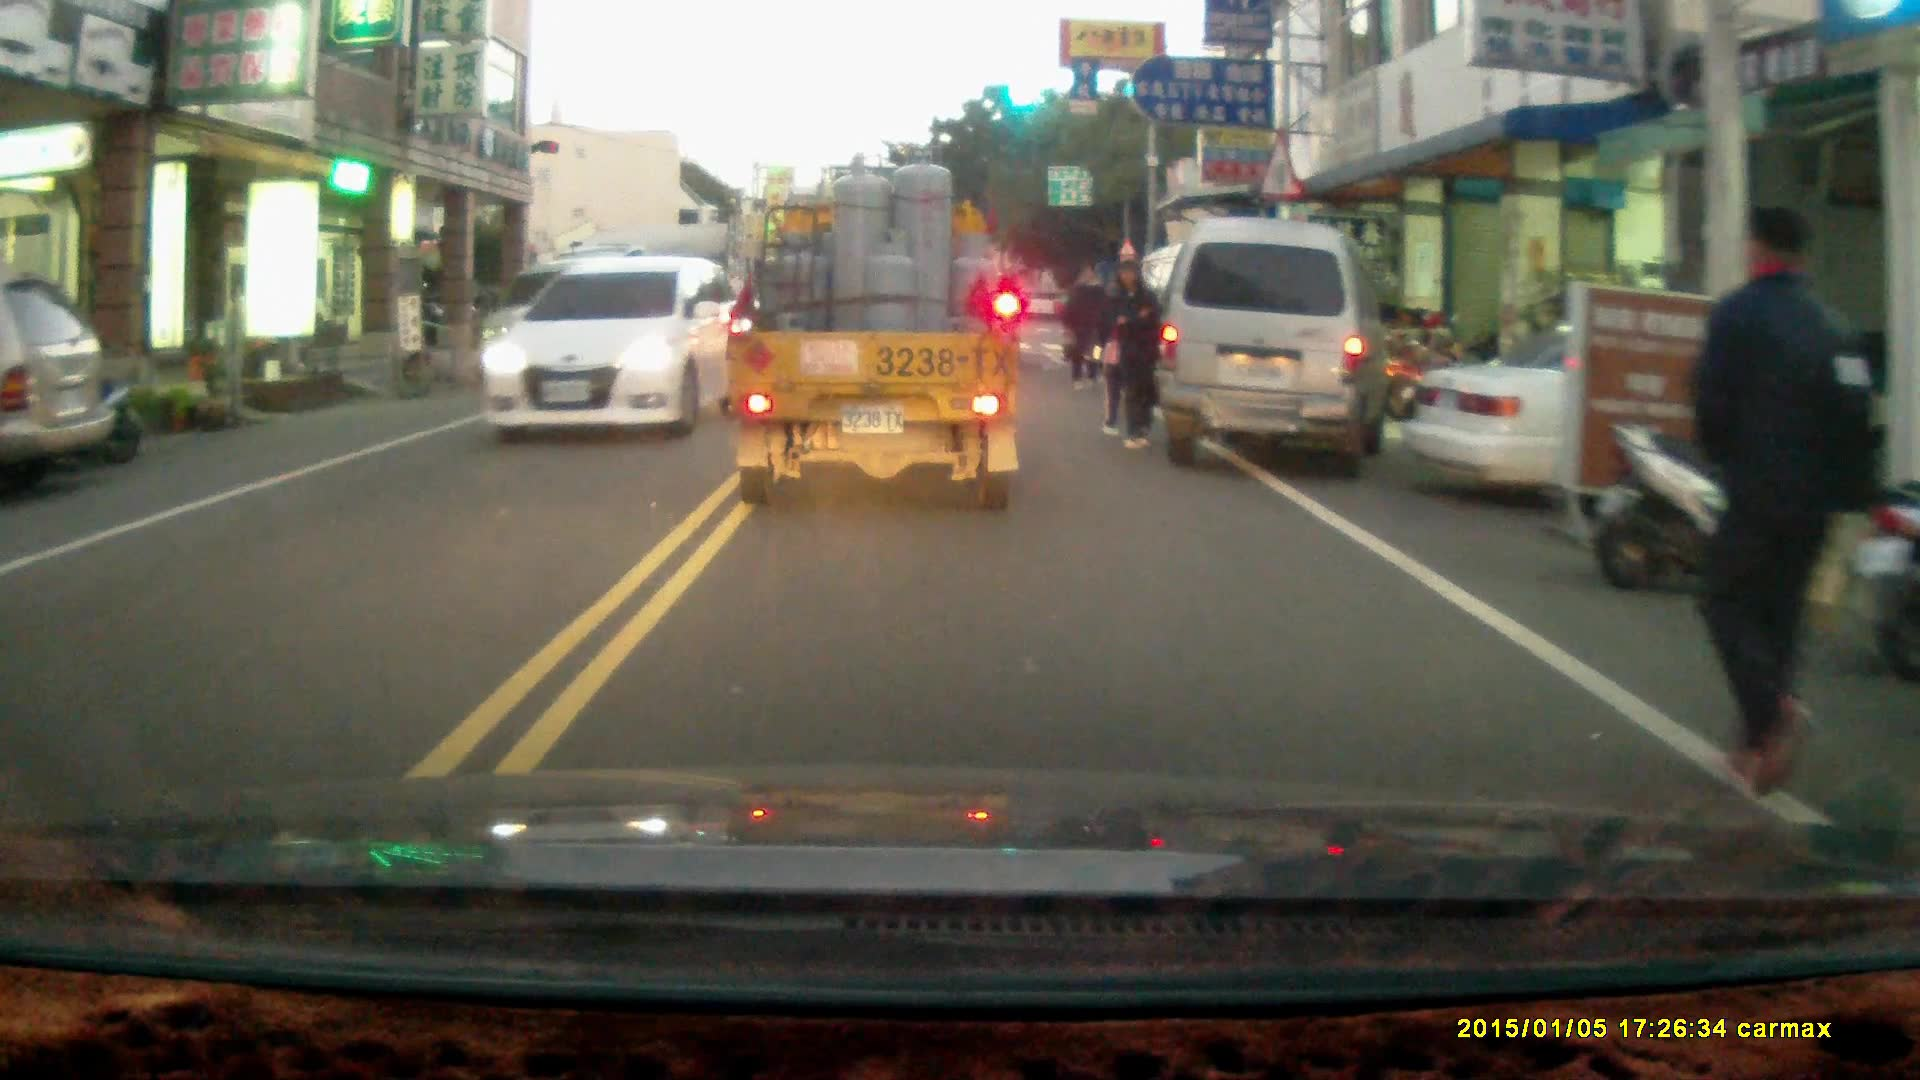pedestrian: (1676, 204, 1877, 811), (1105, 255, 1160, 447), (1062, 257, 1111, 388)
vehicle: (723, 156, 1023, 508), (1398, 313, 1881, 525), (1156, 210, 1395, 470), (484, 252, 744, 432), (1, 272, 119, 477)
